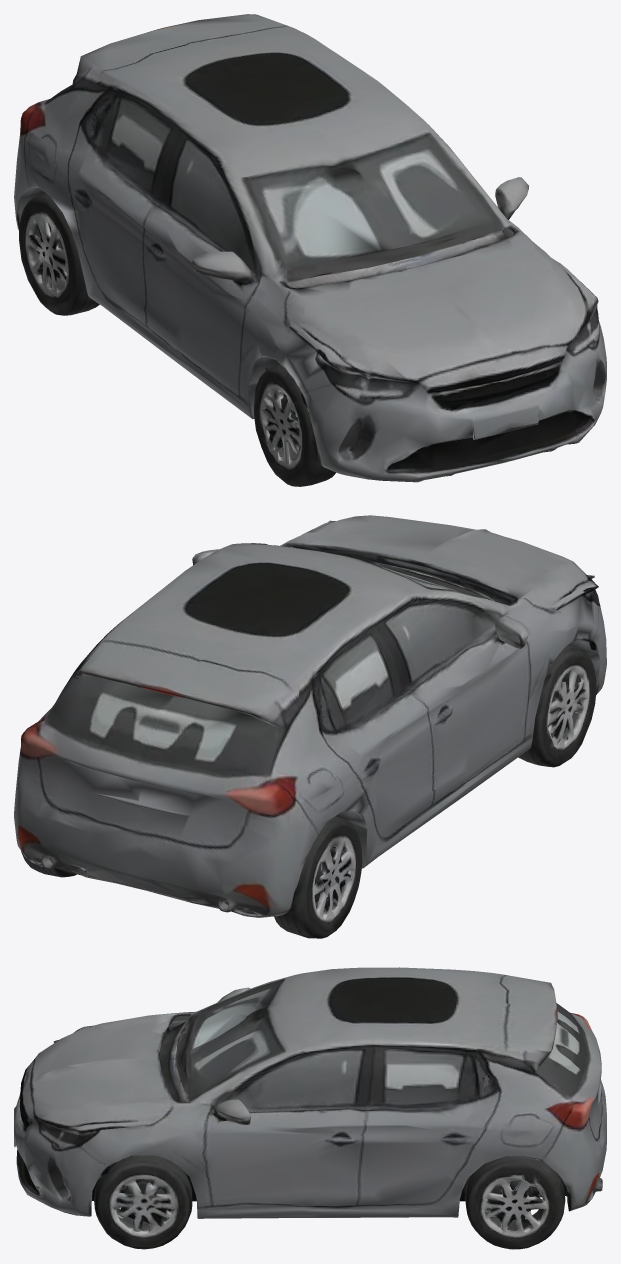
The model's file is car.a49057b4.glb.
3 views of the same model, one above another, from view 1: azimuth 30°, elevation 25°; view 2: azimuth 150°, elevation 25°; view 3: azimuth 270°, elevation 25° (orthographic). The views are drawn at different scales.
Visible parts, largest first — view 1: tripo_node_48863bbd-7781-4625-bd95-9e992e39c910; view 2: tripo_node_48863bbd-7781-4625-bd95-9e992e39c910; view 3: tripo_node_48863bbd-7781-4625-bd95-9e992e39c910.
Boxes of the visible parts, bbox=[...] form: tripo_node_48863bbd-7781-4625-bd95-9e992e39c910: bbox=[14, 14, 606, 486]; tripo_node_48863bbd-7781-4625-bd95-9e992e39c910: bbox=[14, 515, 606, 938]; tripo_node_48863bbd-7781-4625-bd95-9e992e39c910: bbox=[14, 967, 606, 1249].
Bounding box in the file's own units: 1.85 × 1.33 × 3.61.
Materials: 1 (1 with a texture image).
